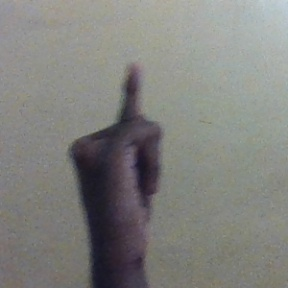I: (65, 62, 169, 256)
